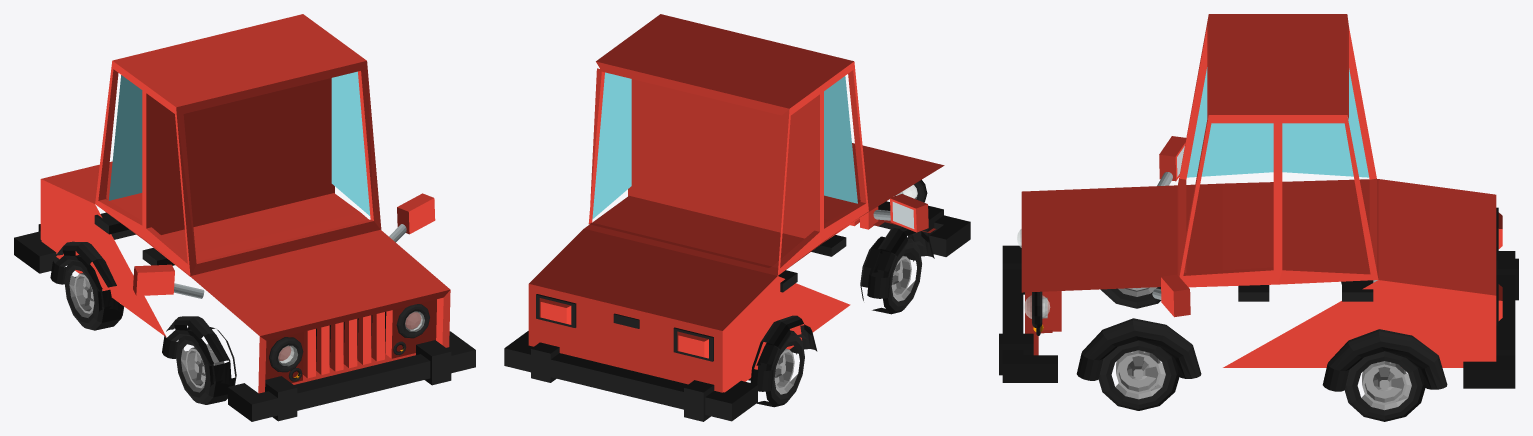
The model's file is sedan_red.glb.
3 views of the same model, side by side, from view 1: azimuth 30°, elevation 25°; view 2: azimuth 150°, elevation 25°; view 3: azimuth 270°, elevation 25° (orthographic). The views are drawn at different scales.
Visible parts, largest first — view 1: Node; view 2: Node; view 3: Node.
Boxes of the visible parts, x1=… form: Node: x1=14, y1=14, x2=475, y2=421; Node: x1=504, y1=14, x2=970, y2=421; Node: x1=999, y1=14, x2=1518, y2=421.
Size of the model in its own units: 1.08 by 0.9688 by 1.5.
